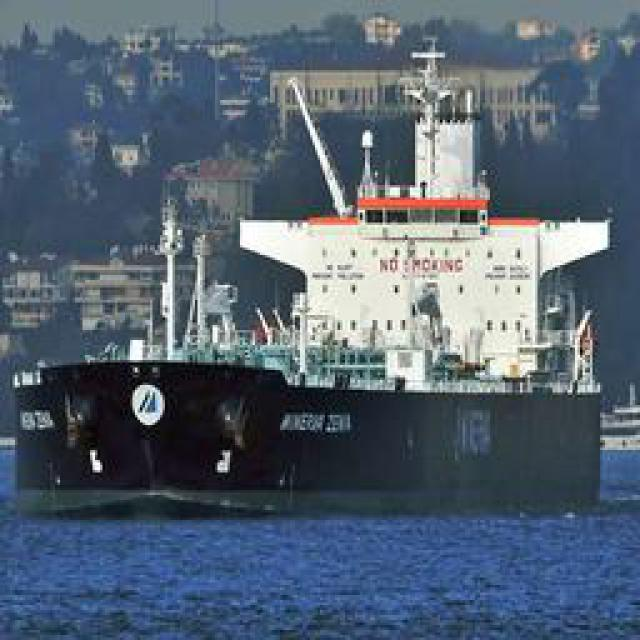Ship: (12, 26, 620, 516)
